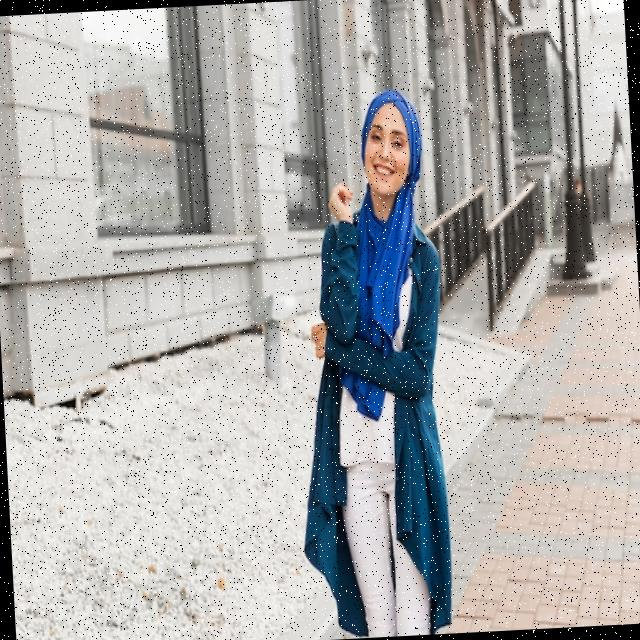Person: (279, 85, 459, 640)
